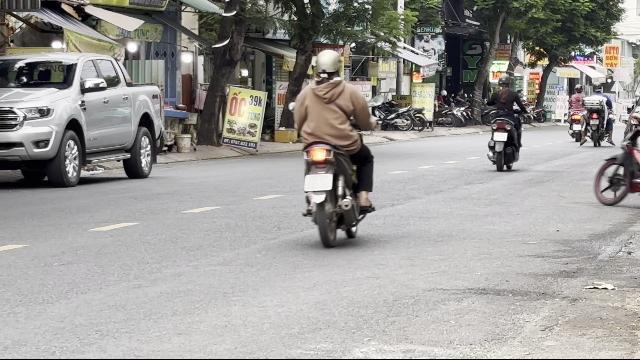helmet: (311, 48, 344, 82)
licenseplate: (304, 174, 332, 192)
motorcyclist: (291, 47, 379, 245)
